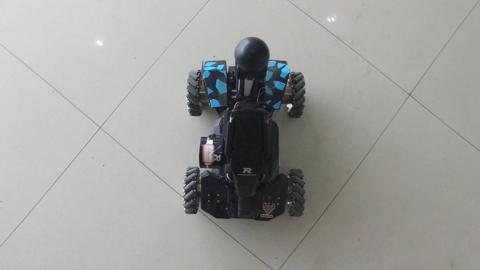chariot: (180, 31, 301, 222)
